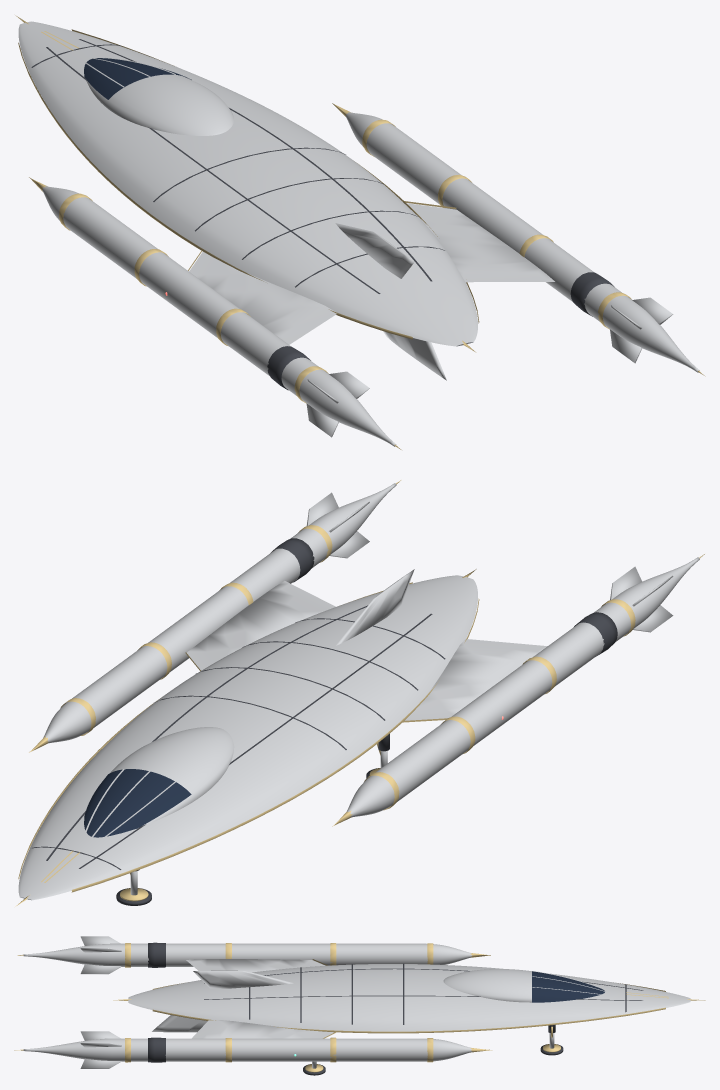
Rendered from courier-lod1-CHc5IA82.glb.
The picture shows the model from 3 angles, top to bottom: view 1: azimuth 30°, elevation 25°; view 2: azimuth 150°, elevation 25°; view 3: azimuth 270°, elevation 25°; orthographic projection. The views are drawn at different scales.
Visible parts, largest first — view 1: Body_Chrome.001, Body_Graphite.001, Body_Gold.001, Visor.001; view 2: Body_Chrome.001, Visor.001, Body_Gold.001, Body_Graphite.001; view 3: Body_Chrome.001, Body_Gold.001, Body_Graphite.001, Visor.001.
Boxes of the visible parts, x1,y1,x2,y2 form: Body_Chrome.001: [18, 21, 699, 446]; Body_Graphite.001: [31, 39, 614, 390]; Body_Gold.001: [15, 15, 705, 449]; Visor.001: [84, 58, 191, 99]; Body_Chrome.001: [18, 483, 699, 900]; Visor.001: [84, 769, 191, 837]; Body_Gold.001: [15, 480, 704, 906]; Body_Graphite.001: [32, 538, 617, 869]; Body_Chrome.001: [23, 936, 690, 1068]; Body_Gold.001: [14, 943, 705, 1062]; Body_Graphite.001: [148, 942, 643, 1062]; Visor.001: [532, 971, 604, 1002].
Bounding box in the file's own units: 13.31 × 4.62 × 36.4.
